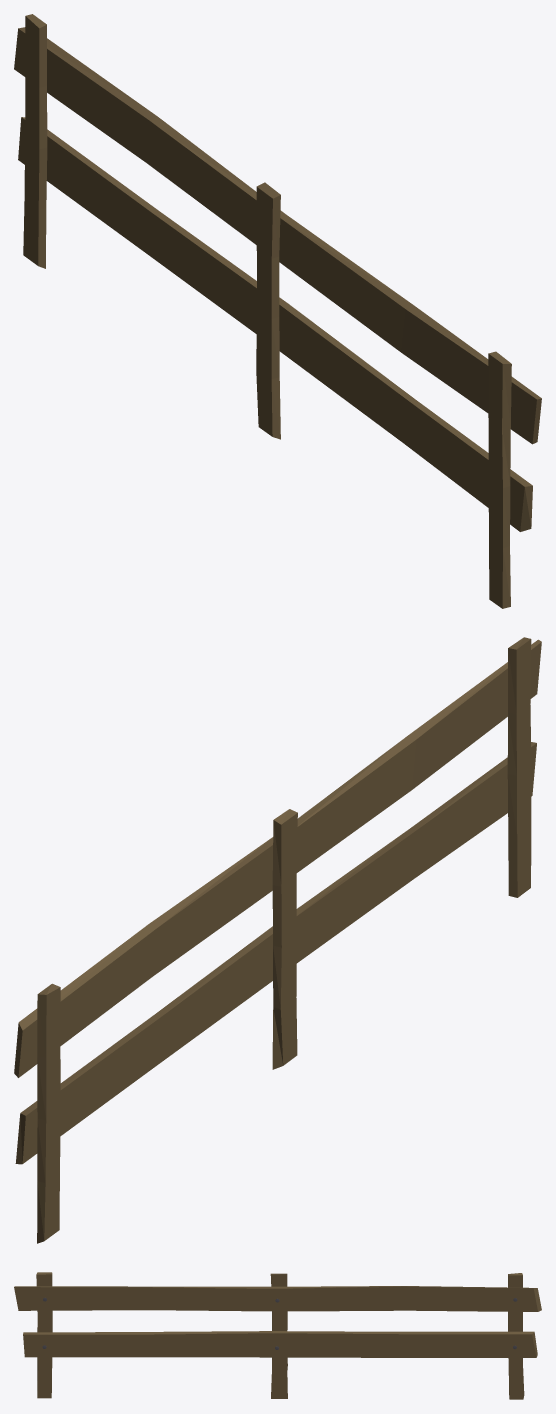
Rendered from Zaun lang.fbx.
The picture shows the model from 3 angles, top to bottom: view 1: azimuth 30°, elevation 25°; view 2: azimuth 150°, elevation 25°; view 3: azimuth 270°, elevation 25°; orthographic projection. The views are drawn at different scales.
Parts seen in each view (by area): view 1: Zylinder_2; view 2: Zylinder_2; view 3: Zylinder_2.
Boxes of the visible parts, <box> form: Zylinder_2: <box>14,14,541,608</box>; Zylinder_2: <box>14,637,541,1243</box>; Zylinder_2: <box>14,1272,541,1399</box>.
Bounding box in the file's own units: 13.53 × 176 × 672.
